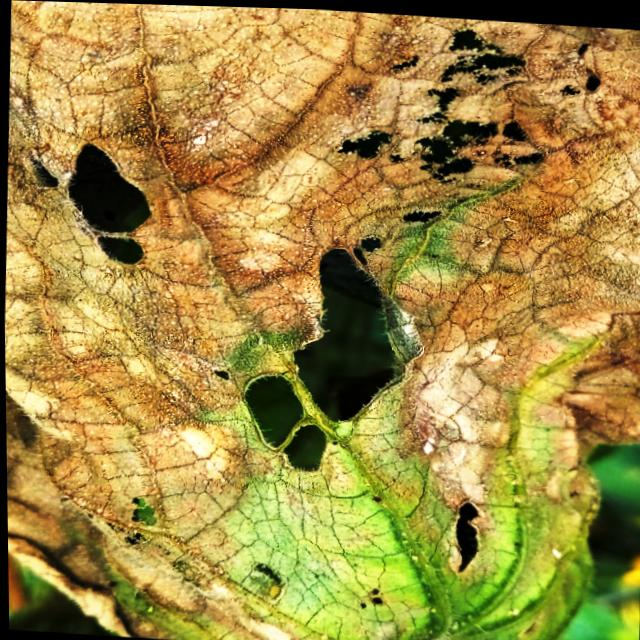Anthracnose: (233, 226, 427, 478), (331, 23, 551, 189), (27, 137, 155, 269), (556, 31, 606, 106), (104, 491, 163, 548), (448, 496, 484, 579)
